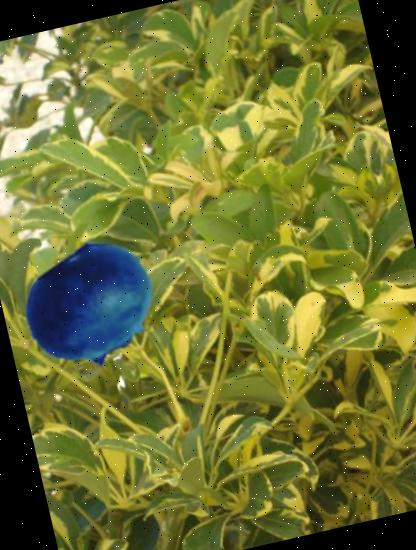Huckleberry: (10, 224, 174, 386)
